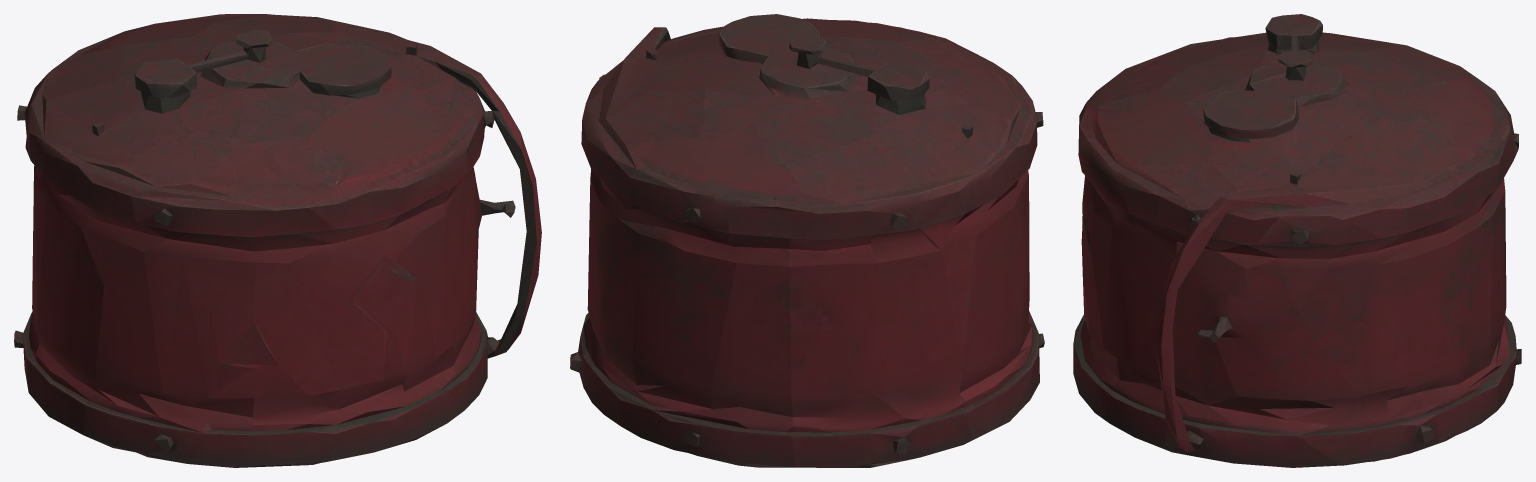
Rendered from explosive_barrel.glb.
The picture shows the model from 3 angles, left to right: view 1: azimuth 30°, elevation 25°; view 2: azimuth 150°, elevation 25°; view 3: azimuth 270°, elevation 25°; orthographic projection. The views are drawn at different scales.
Bounding box in the file's own units: 1.42 × 1.1 × 1.37.
Materials: 1 (1 with a texture image).
